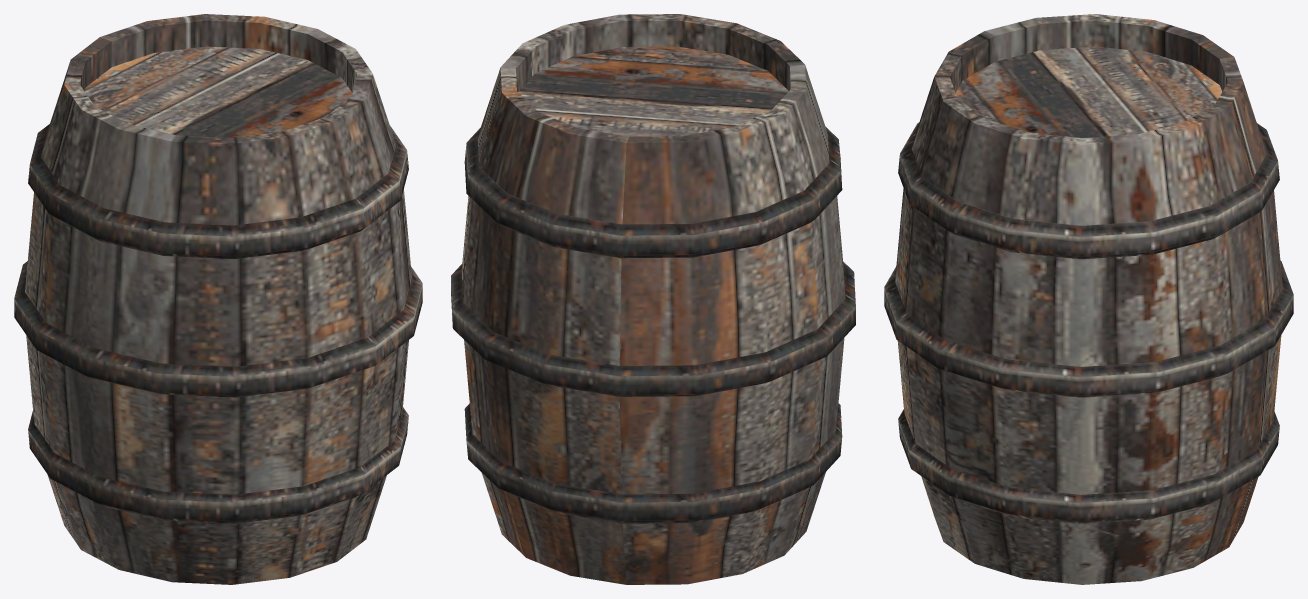
The model's file is Barrel_v1_M2.gltf.
3 renders of one model, left to right at view 1: azimuth 30°, elevation 25°; view 2: azimuth 150°, elevation 25°; view 3: azimuth 270°, elevation 25°, orthographic.
Parts seen in each view (by area): view 1: Barrel_v1_M2(Clone); view 2: Barrel_v1_M2(Clone); view 3: Barrel_v1_M2(Clone).
Part boxes in pixels (bbox=[...]): Barrel_v1_M2(Clone): bbox=[14, 14, 422, 584]; Barrel_v1_M2(Clone): bbox=[451, 14, 855, 584]; Barrel_v1_M2(Clone): bbox=[884, 14, 1293, 584].
Bounding box in the file's own units: 1.02 × 1.21 × 1.02.
1 material, 1 textured.
